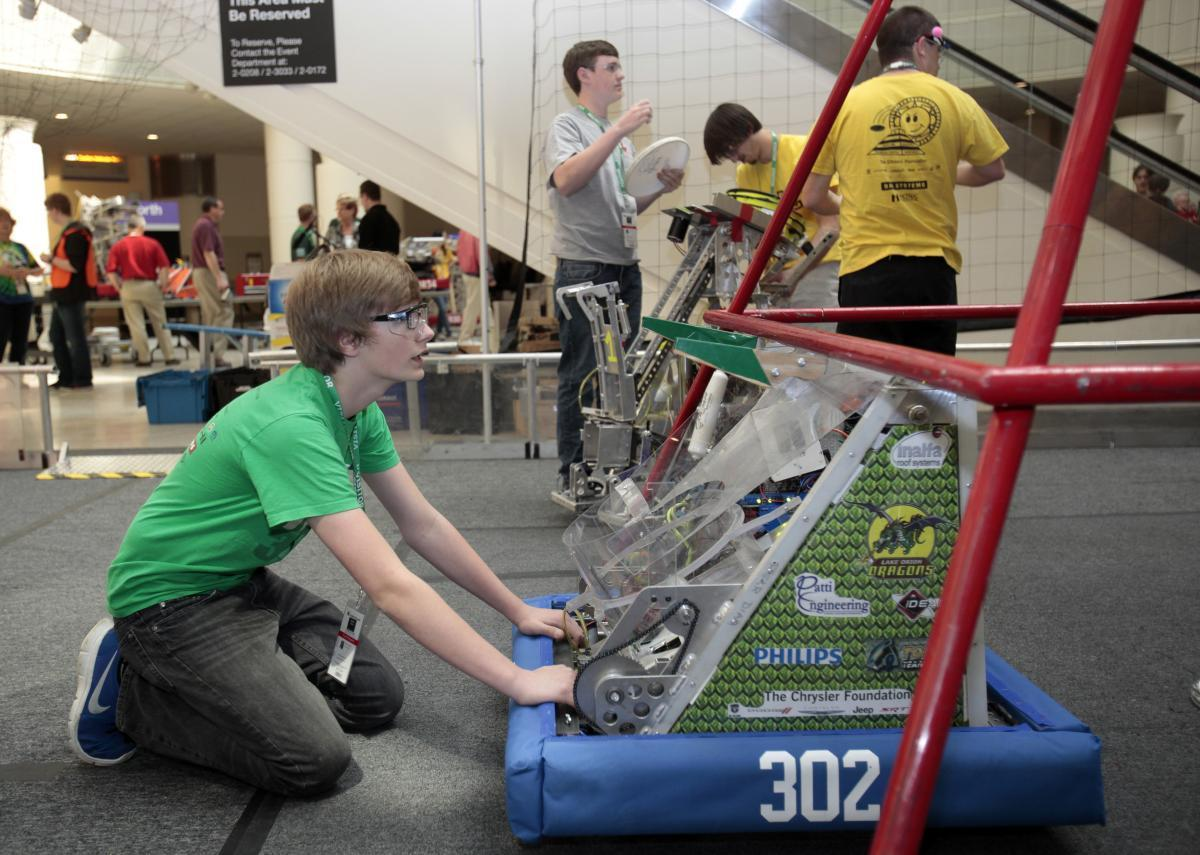robot: (505, 319, 1112, 850), (555, 184, 905, 526)
